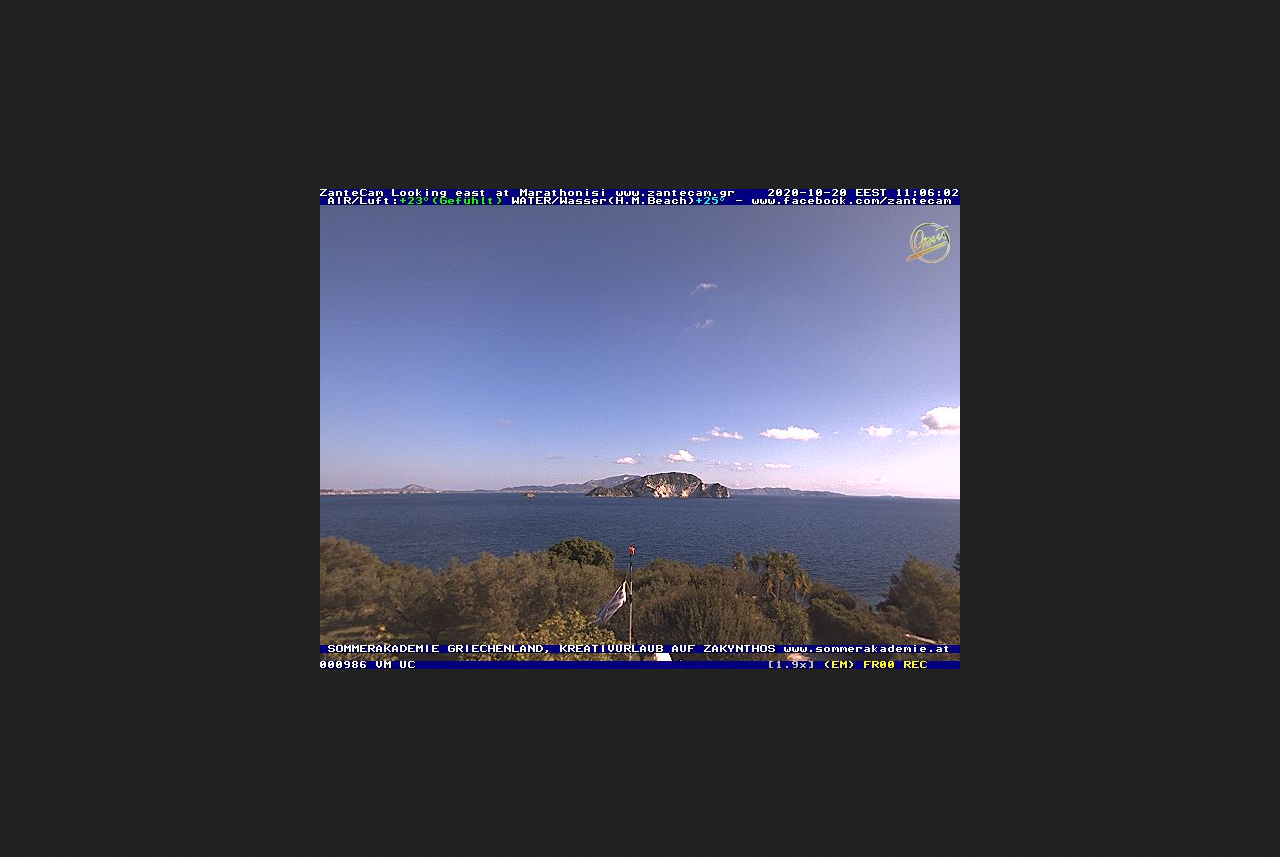maybe: (590, 579, 633, 629)
